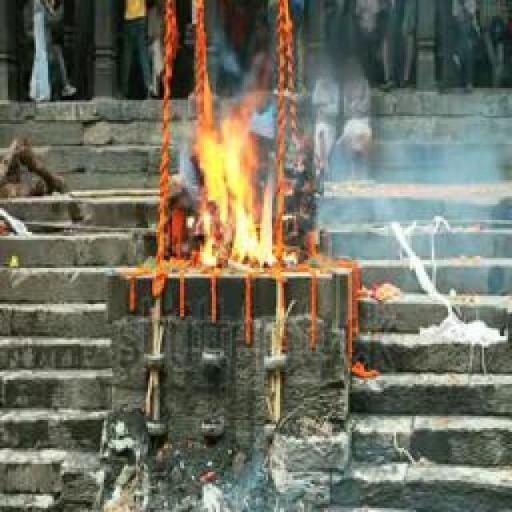smoke: (191, 106, 275, 269)
